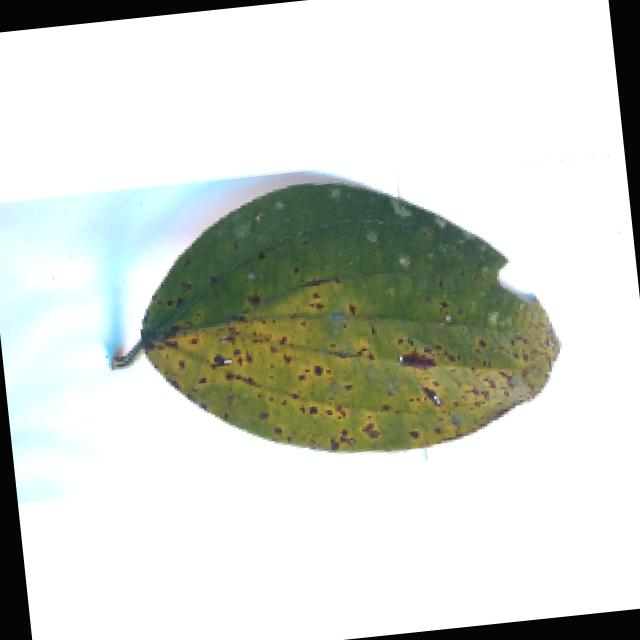slow-decline: (89, 158, 572, 488)
